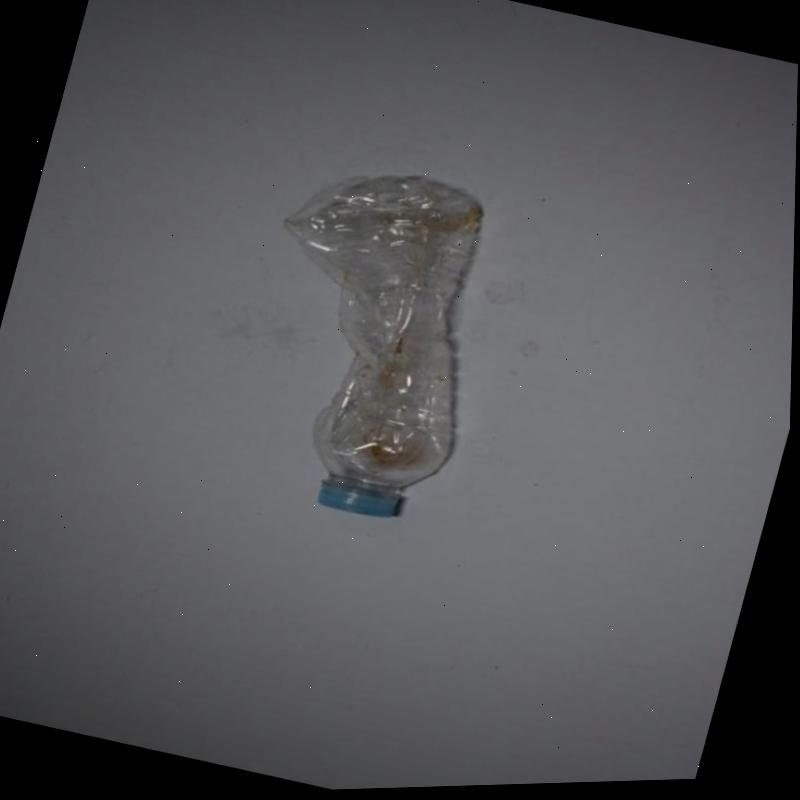botella: (211, 145, 524, 537)
